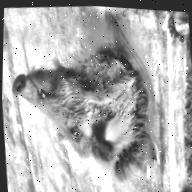boar: (6, 28, 159, 192)
